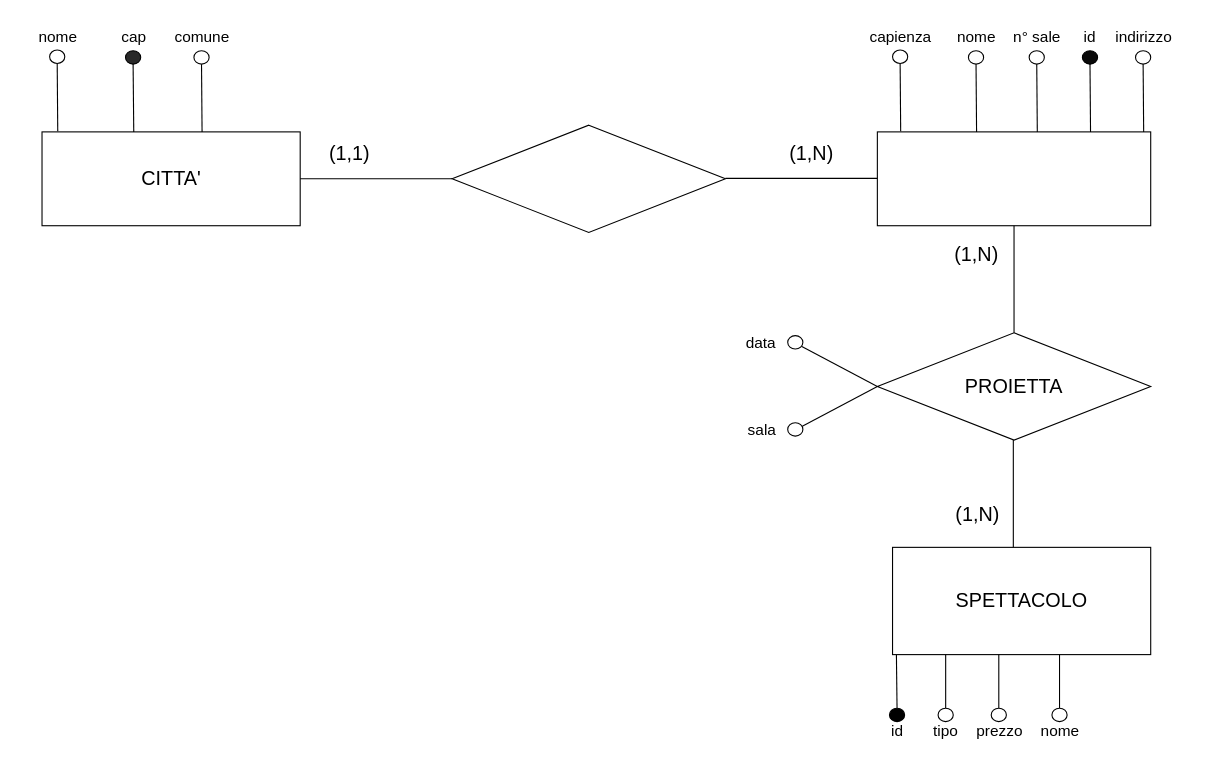
This 1214x773 diagram has some shape labels left out. The shapes that lost their labels are listed below. From the top down, each one's centre as x and y in pixels, then its label:
At point (588, 178): "E'_IN".
At point (1013, 178): "TEATRO".
